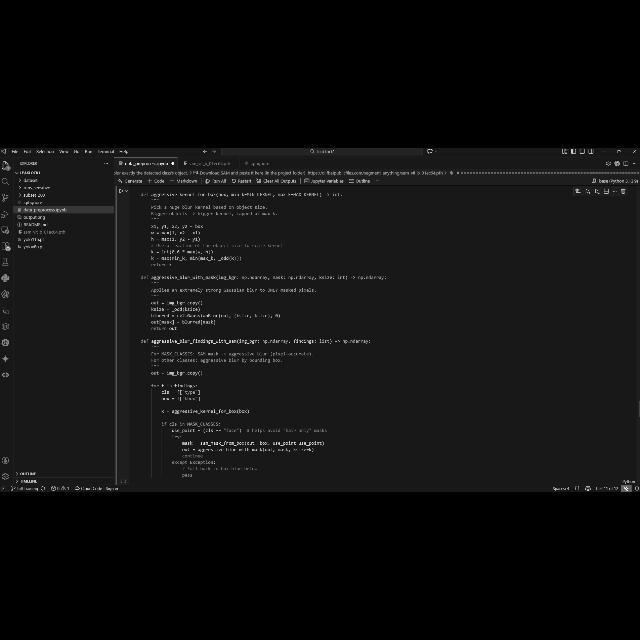code_screen: (135, 189, 398, 482)
